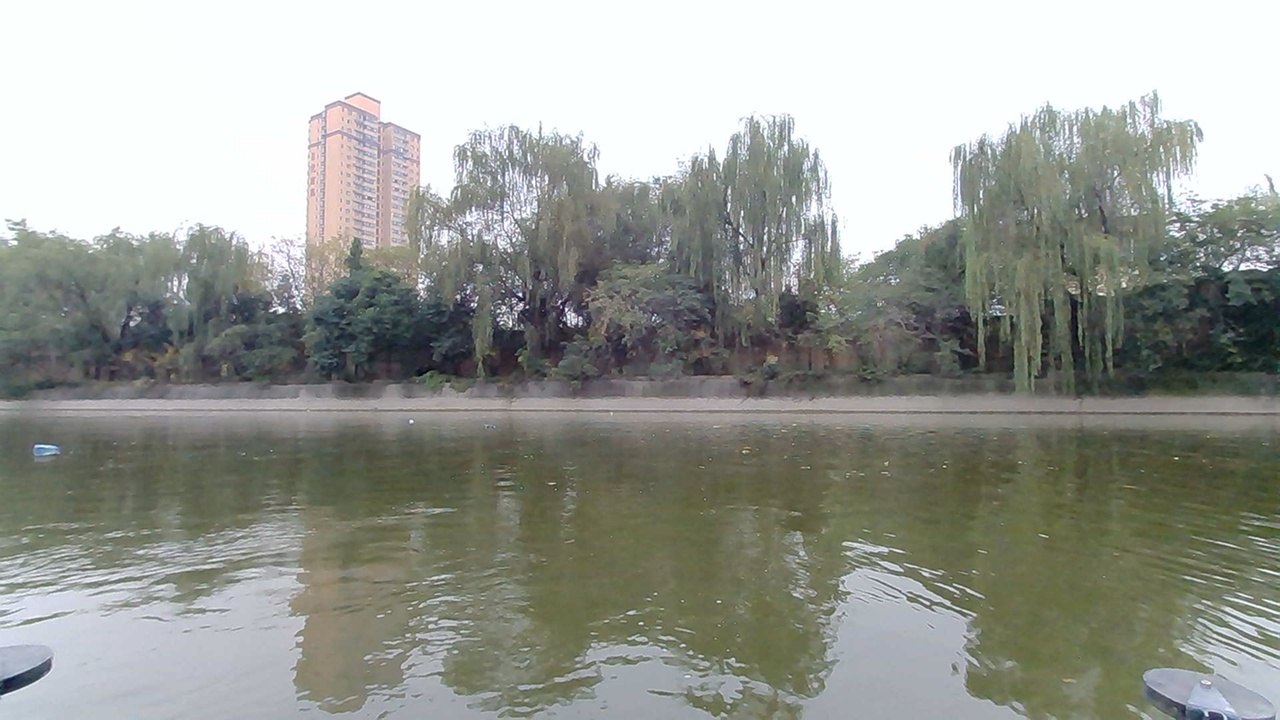bottle: (24, 431, 79, 464)
